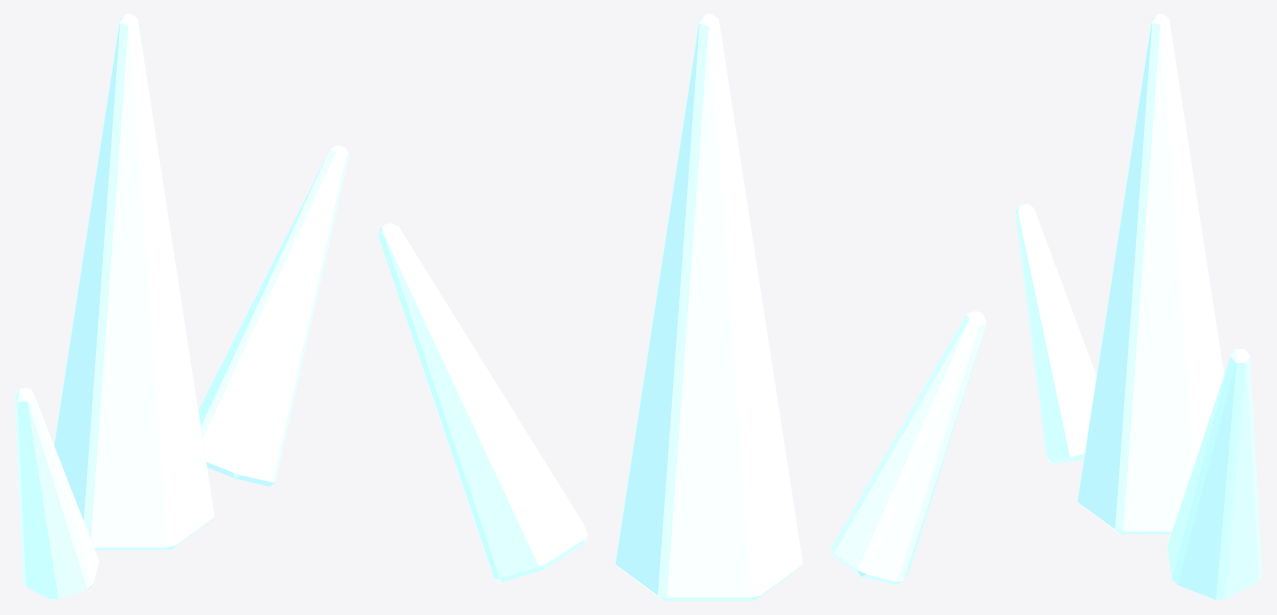
The model's file is crystal.glb.
The picture shows the model from 3 angles, left to right: view 1: azimuth 30°, elevation 25°; view 2: azimuth 150°, elevation 25°; view 3: azimuth 270°, elevation 25°; orthographic projection. The views are drawn at different scales.
Visible parts, largest first — view 1: Shard1, Shard2, Shard3; view 2: Shard1, Shard2, Shard3; view 3: Shard1, Shard2, Shard3.
Part boxes in pixels (bbox=[...]): Shard1: bbox=[54, 14, 214, 550]; Shard2: bbox=[198, 145, 349, 486]; Shard3: bbox=[14, 388, 98, 600]; Shard1: bbox=[615, 14, 802, 600]; Shard2: bbox=[378, 223, 587, 582]; Shard3: bbox=[831, 311, 986, 584]; Shard1: bbox=[1077, 14, 1224, 534]; Shard2: bbox=[1167, 349, 1262, 600]; Shard3: bbox=[1015, 203, 1096, 463].
Size of the model in its own units: 0.9173 by 1.04 by 0.4583.
